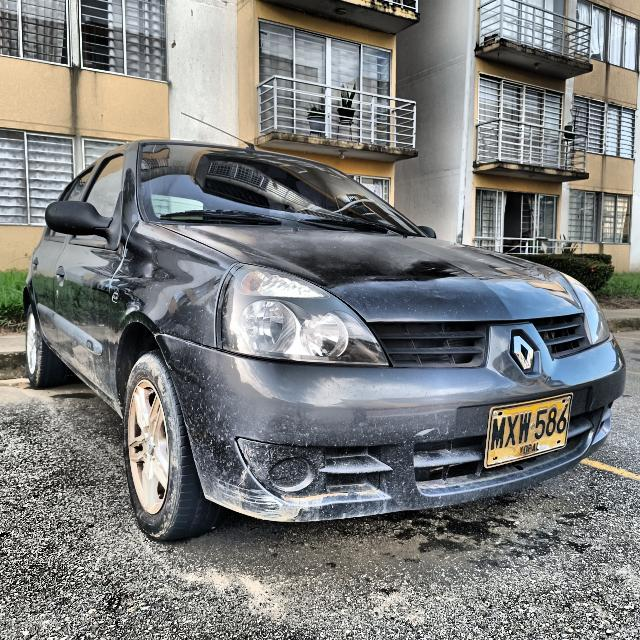plate: (486, 394, 572, 467)
